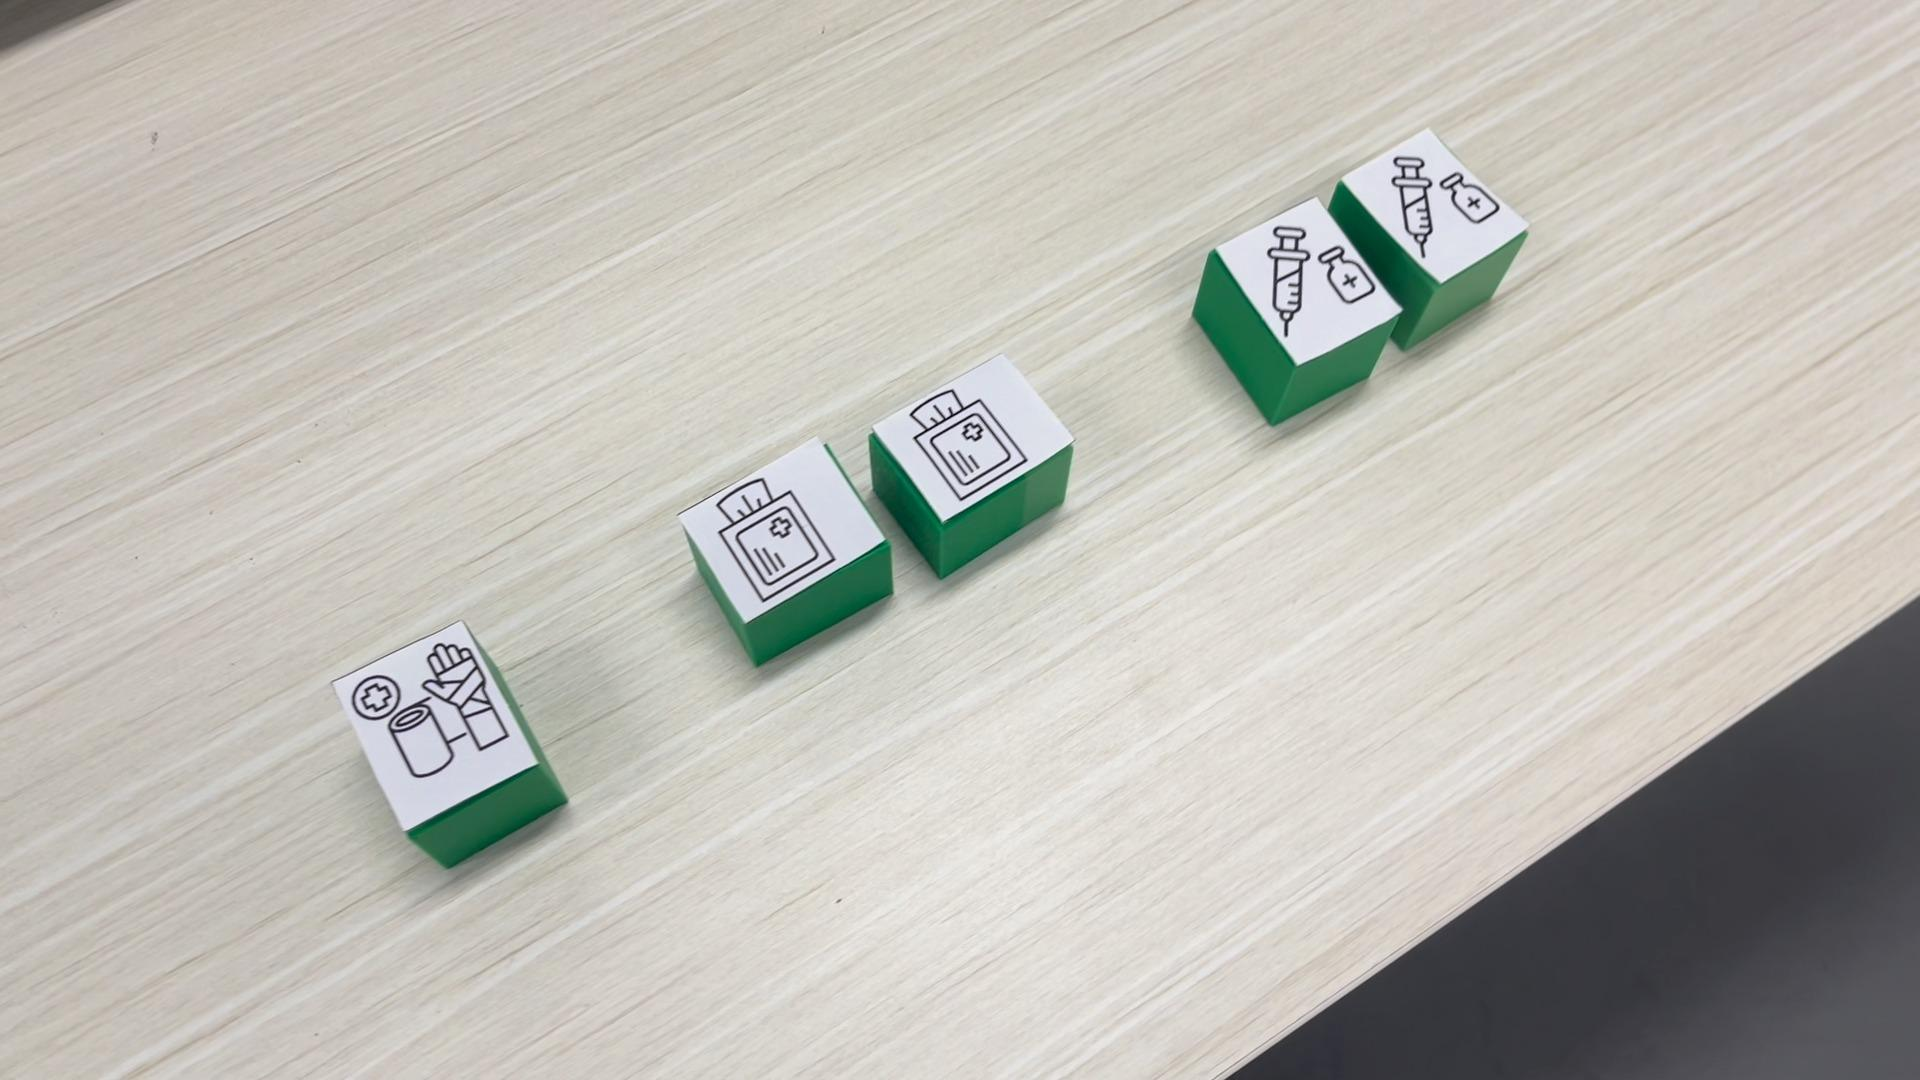Bandages: (324, 620, 568, 868)
Gauze: (671, 436, 894, 666), (870, 359, 1075, 582)
antiseptic cream: (1191, 179, 1416, 425), (1340, 128, 1534, 285)
